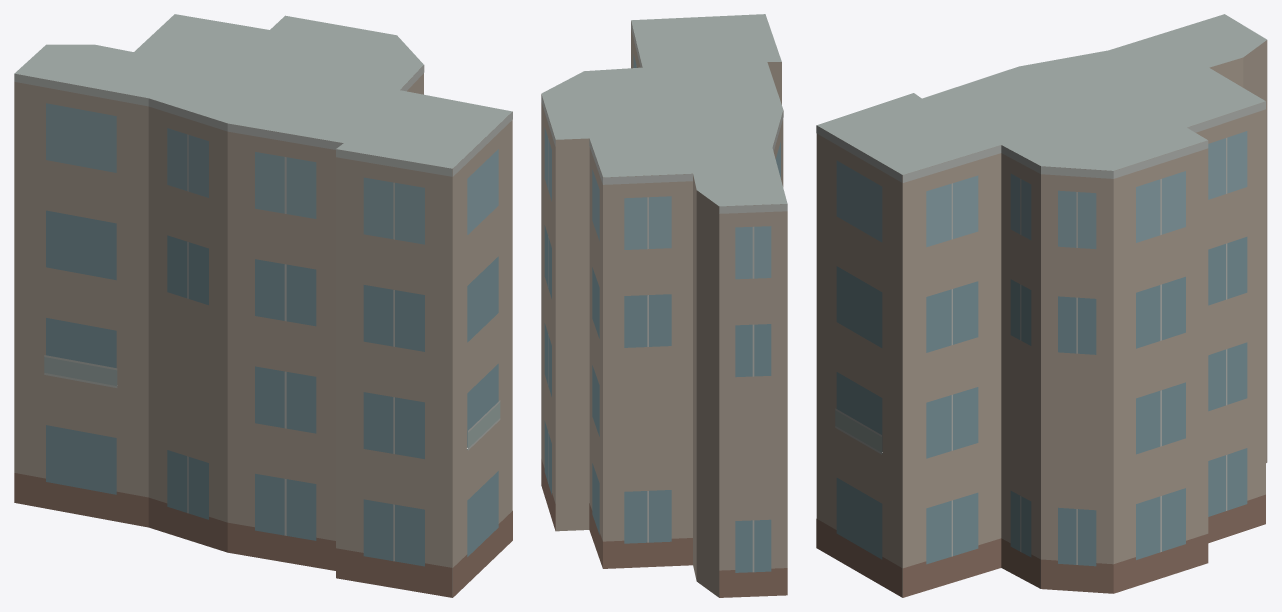
Rendered from survey-upis-32462482.glb.
3 views of the same model, side by side, from view 1: azimuth 30°, elevation 25°; view 2: azimuth 150°, elevation 25°; view 3: azimuth 270°, elevation 25° (orthographic). The views are drawn at different scales.
Visible parts, largest first — view 1: survey-upis-32462482.tmp; view 2: survey-upis-32462482.tmp; view 3: survey-upis-32462482.tmp.
Boxes of the visible parts, x1,y1,x2,y2 form: survey-upis-32462482.tmp: (14, 14, 512, 597); survey-upis-32462482.tmp: (541, 14, 787, 597); survey-upis-32462482.tmp: (816, 14, 1267, 597).
Bounding box in the file's own units: 10.47 × 12.8 × 12.38.
